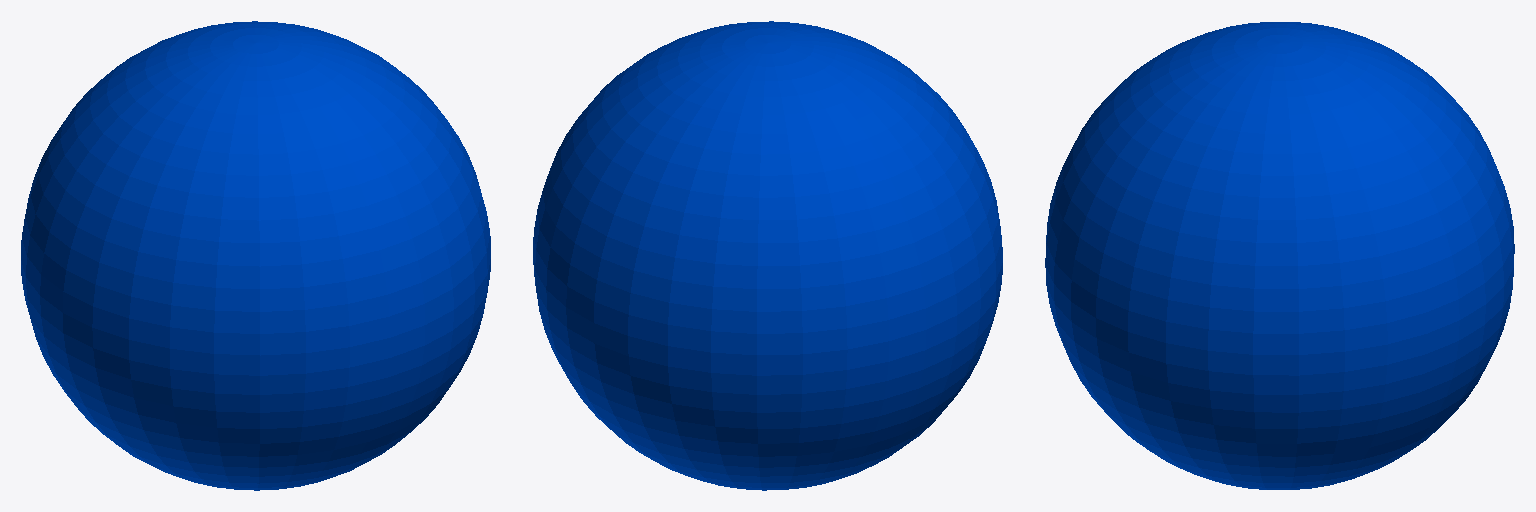
Rendered from Planet1.obj.
3 renders of one model, left to right at view 1: azimuth 30°, elevation 25°; view 2: azimuth 150°, elevation 25°; view 3: azimuth 270°, elevation 25°, orthographic.
Visible parts, largest first — view 1: Atmo_Sphere.003; view 2: Atmo_Sphere.003; view 3: Atmo_Sphere.003.
Boxes of the visible parts, <box> form: Atmo_Sphere.003: <box>21,21,490,490</box>; Atmo_Sphere.003: <box>533,21,1002,490</box>; Atmo_Sphere.003: <box>1045,22,1514,489</box>.
Bounding box in the file's own units: 6.41 × 6.41 × 6.41.